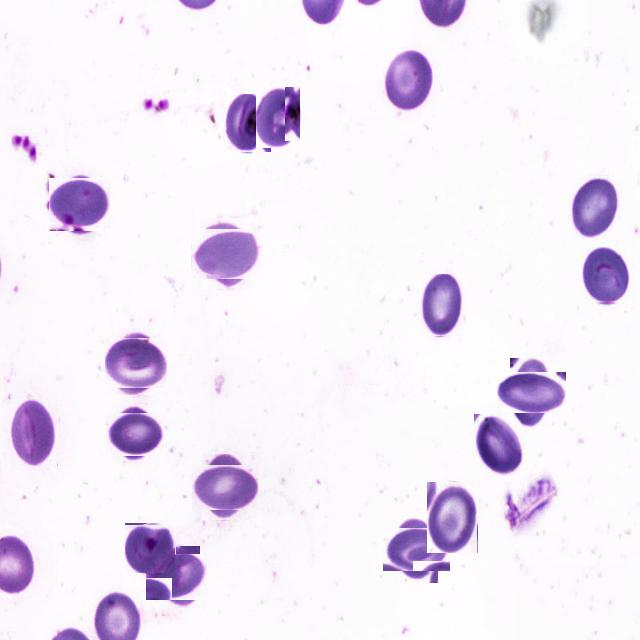red blood cell: (195, 223, 258, 284), (427, 481, 478, 553), (383, 48, 436, 113), (10, 396, 58, 466), (51, 176, 108, 233), (197, 460, 253, 516), (108, 336, 164, 392), (474, 414, 524, 476), (388, 522, 444, 577), (504, 364, 558, 420), (418, 274, 466, 336), (150, 550, 204, 604), (572, 176, 618, 238), (582, 248, 632, 304), (256, 86, 301, 148), (225, 94, 271, 152), (110, 408, 160, 459), (125, 524, 176, 574)
